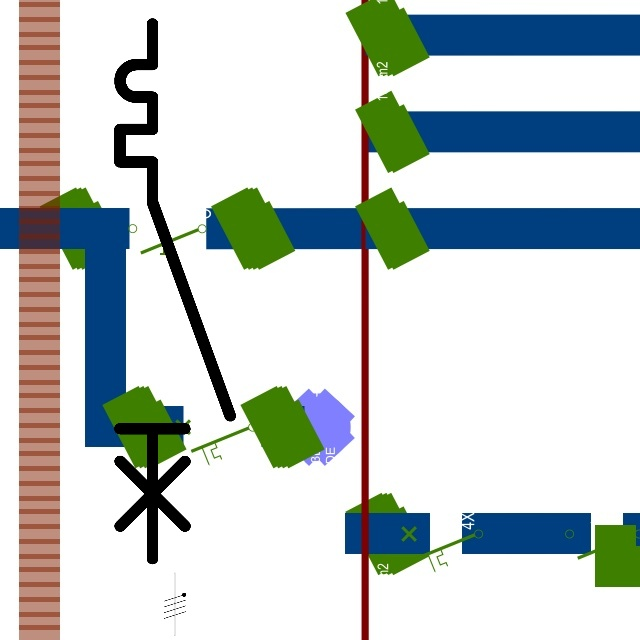interruptor_termomagnetico: (106, 10, 243, 572)
